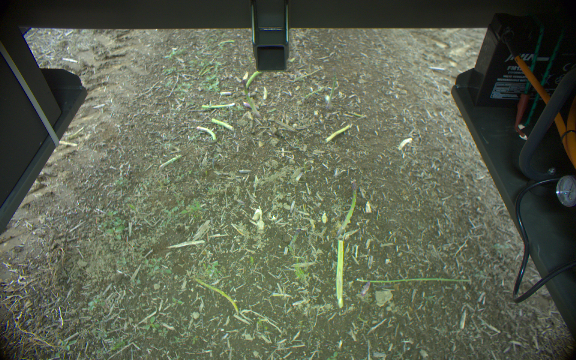aspa: (190, 276, 237, 315), (335, 231, 348, 308), (341, 182, 358, 228), (155, 151, 183, 174), (206, 114, 236, 135), (323, 123, 353, 142), (239, 77, 254, 111), (195, 124, 217, 142), (244, 71, 262, 89), (200, 100, 235, 109)
